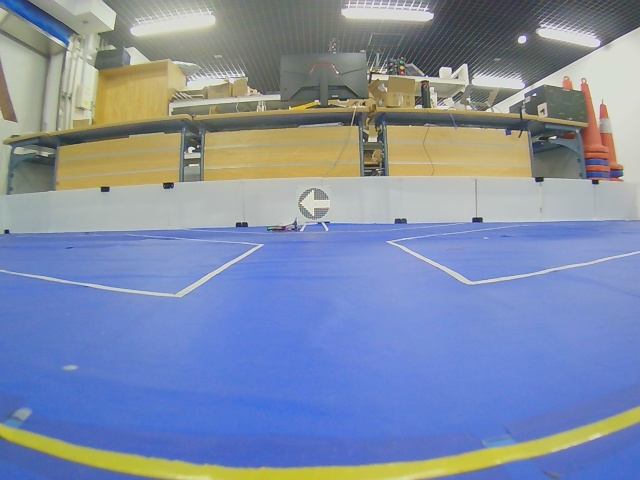left_yellow: (298, 187, 331, 220)
